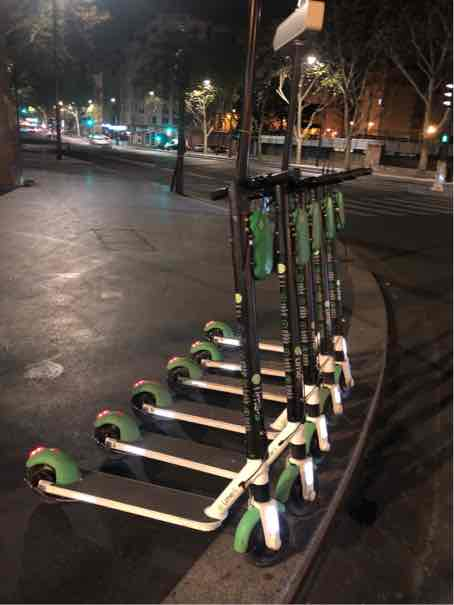too close: (207, 489, 324, 578), (239, 450, 362, 525)
